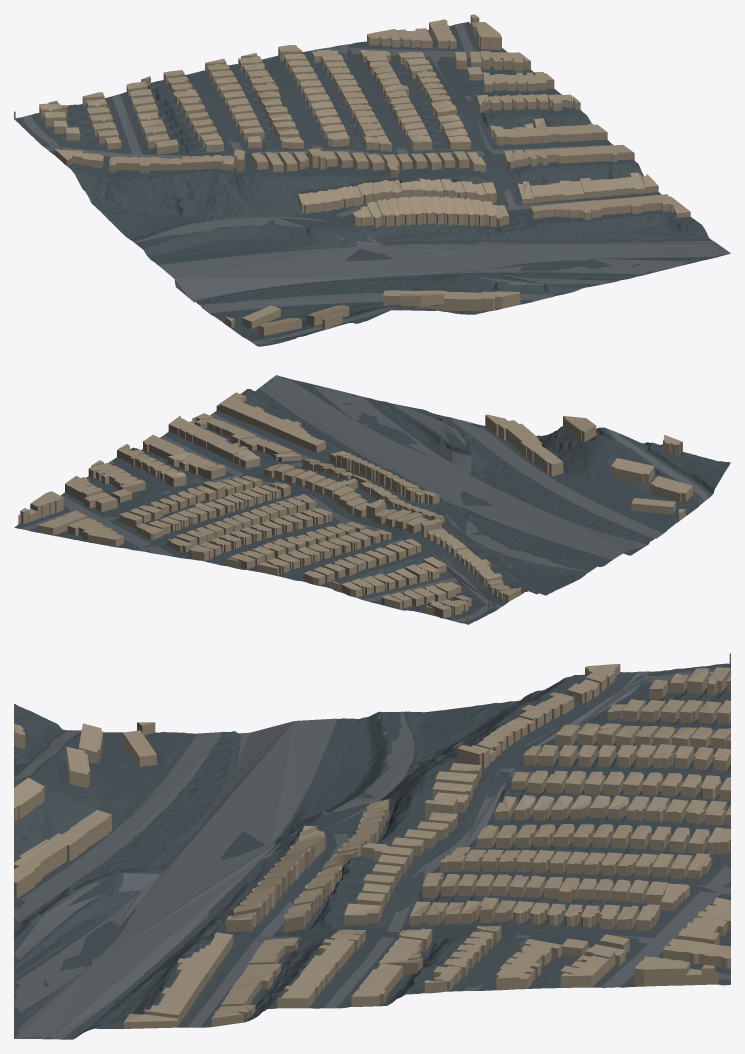
The model's file is epsg26910-1436-10875.lod0.glb.
3 renders of one model, top to bottom at view 1: azimuth 30°, elevation 25°; view 2: azimuth 150°, elevation 25°; view 3: azimuth 270°, elevation 25°, orthographic. The views are drawn at different scales.
Visible parts, largest first — view 1: epsg26910-1436-10875-lod0; view 2: epsg26910-1436-10875-lod0; view 3: epsg26910-1436-10875-lod0.
Boxes of the visible parts, x1,y1,x2,y2 form: epsg26910-1436-10875-lod0: [14, 14, 730, 346]; epsg26910-1436-10875-lod0: [14, 375, 730, 624]; epsg26910-1436-10875-lod0: [14, 653, 730, 1039].
Bounding box in the file's own units: 384 × 52.02 × 384.
